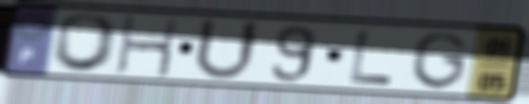9: (267, 23, 319, 83)
G: (408, 30, 471, 92)
H: (113, 13, 181, 79)
L: (346, 28, 396, 87)
O: (48, 13, 124, 74)
U: (189, 16, 263, 84)
